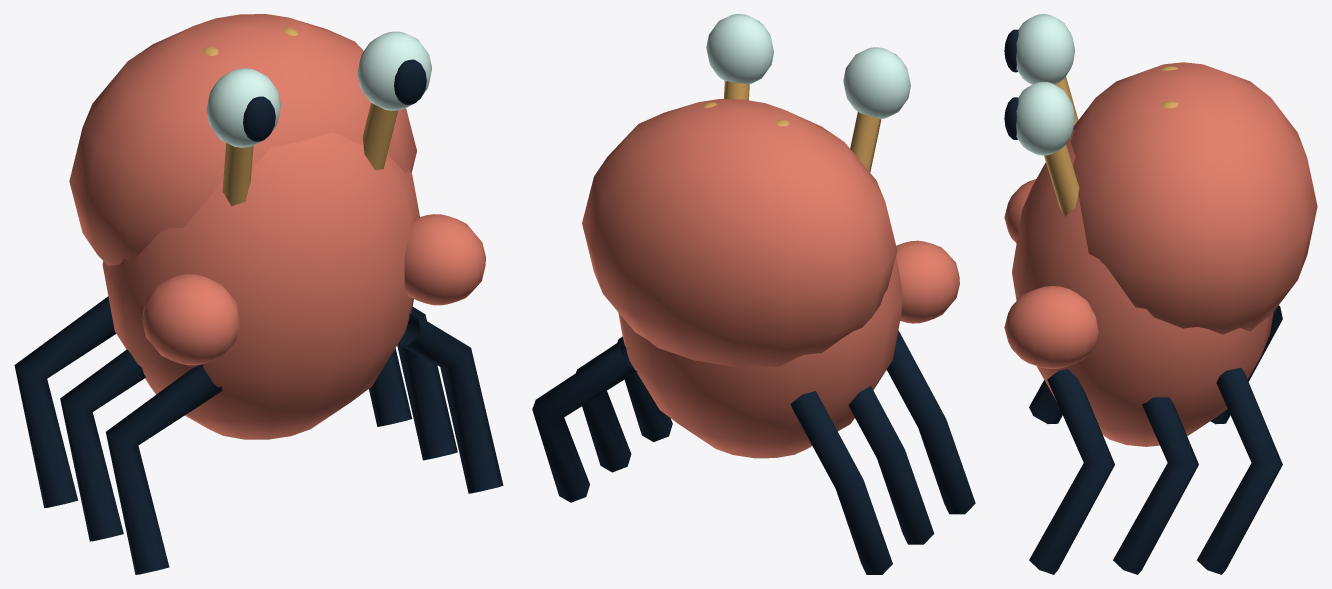
Rendered from grunt.glb.
3 views of the same model, side by side, from view 1: azimuth 30°, elevation 25°; view 2: azimuth 150°, elevation 25°; view 3: azimuth 270°, elevation 25° (orthographic). The views are drawn at different scales.
Parts seen in each view (by area): view 1: grunt; view 2: grunt; view 3: grunt.
Part boxes in pixels (x1,y1,x2,y2): grunt: (14, 14, 503, 574); grunt: (532, 14, 975, 574); grunt: (1004, 14, 1317, 574).
Size of the model in its own units: 0.6218 by 0.7917 by 0.504.
